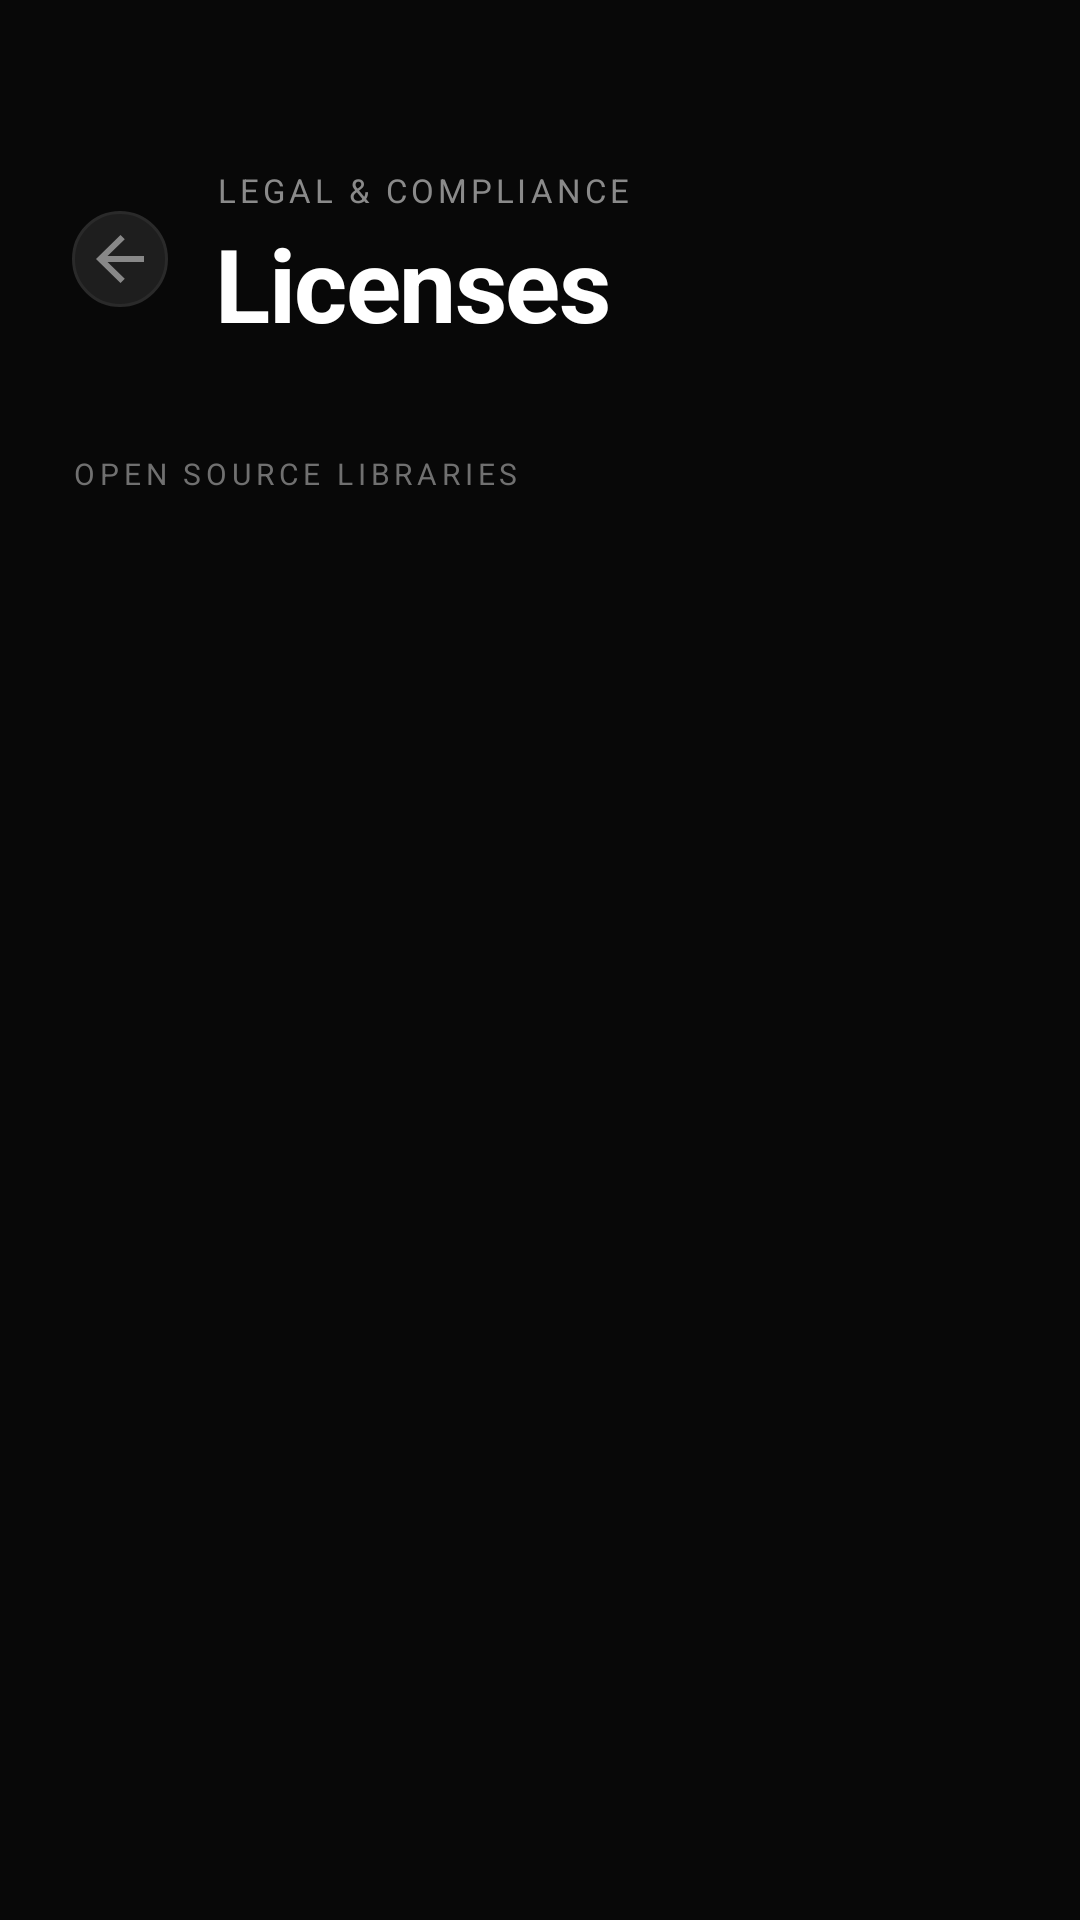

Where to tap for icons on this 1080px x 1920px app screen, as (x=x, y=y):
Go back: (x=120, y=259)
